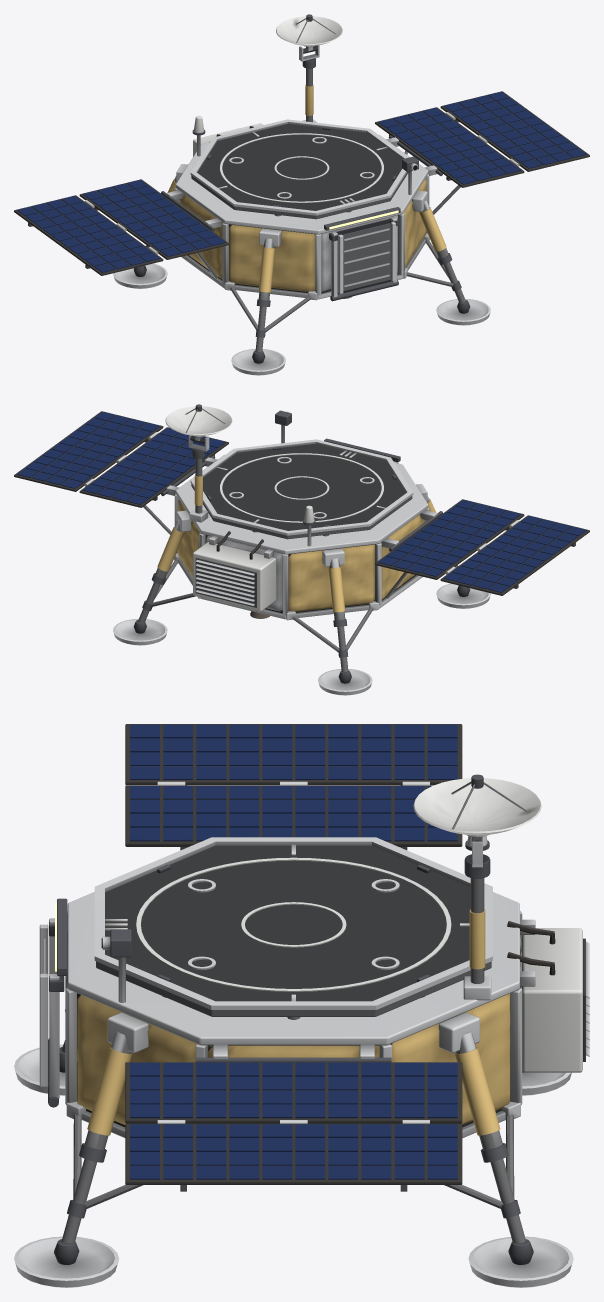
Rendered from lander.glb.
3 renders of one model, top to bottom at view 1: azimuth 30°, elevation 25°; view 2: azimuth 150°, elevation 25°; view 3: azimuth 270°, elevation 25°, orthographic. The views are drawn at different scales.
Visible parts, largest first — view 1: body, deck, dish; view 2: body, deck, dish; view 3: body, deck, dish.
Part boxes in pixels (x1,y1,x2,y2): body: [14, 45, 589, 375]; deck: [190, 119, 408, 219]; dish: [276, 14, 342, 53]; body: [14, 410, 589, 695]; deck: [190, 439, 413, 539]; dish: [165, 404, 232, 443]; body: [14, 724, 589, 1287]; deck: [94, 837, 492, 1016]; dish: [413, 774, 541, 841].
Bounding box in the file's own units: 3.54 × 1.62 × 1.88.
